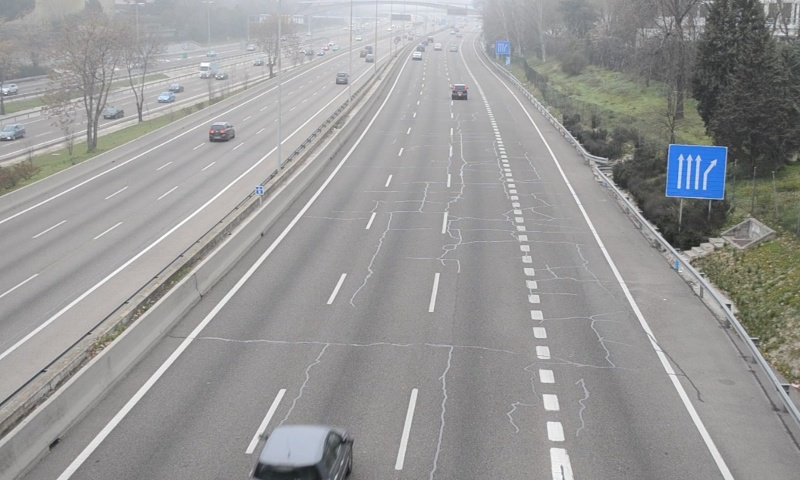car: (248, 426, 354, 480), (451, 82, 469, 100)
